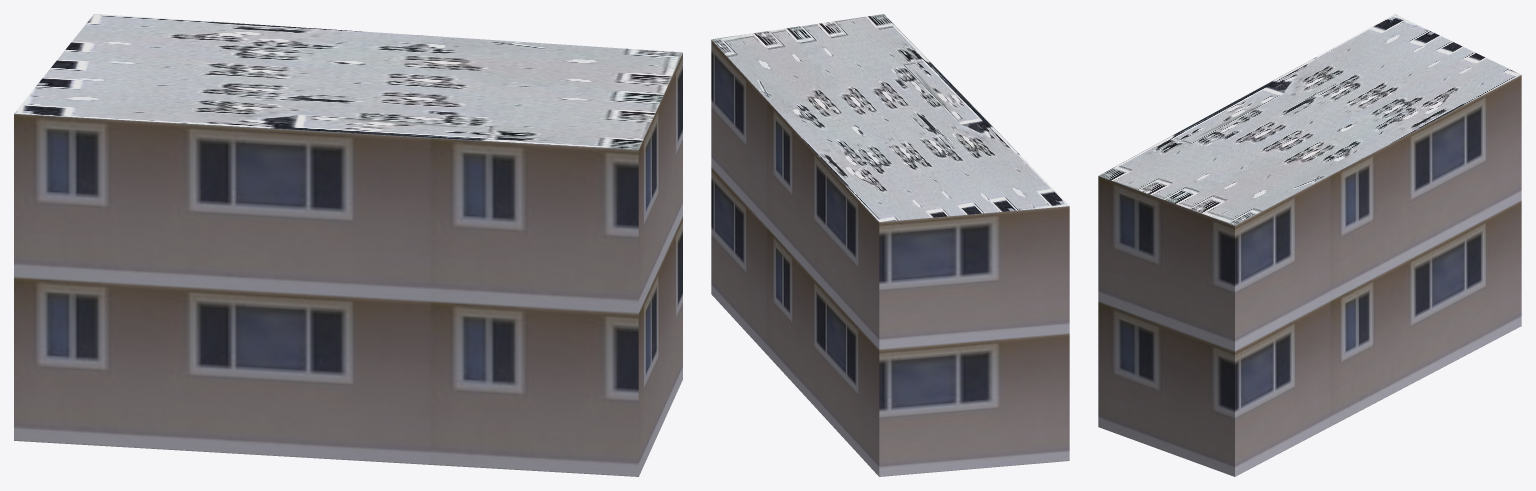
Rendered from ResTex__1340.fbx.
The picture shows the model from 3 angles, left to right: view 1: azimuth 30°, elevation 25°; view 2: azimuth 150°, elevation 25°; view 3: azimuth 270°, elevation 25°; orthographic projection. The views are drawn at different scales.
Parts seen in each view (by area): view 1: CityEngineMaterial_21_m, CityEngineMaterial_8_m; view 2: CityEngineMaterial_21_m, CityEngineMaterial_8_m; view 3: CityEngineMaterial_21_m, CityEngineMaterial_8_m.
Boxes of the visible parts, box(x1,y1,x2,y2) form: CityEngineMaterial_21_m: box(14, 53, 682, 476); CityEngineMaterial_8_m: box(14, 14, 682, 149); CityEngineMaterial_21_m: box(711, 40, 1069, 476); CityEngineMaterial_8_m: box(711, 14, 1069, 221); CityEngineMaterial_21_m: box(1098, 75, 1521, 476); CityEngineMaterial_8_m: box(1098, 14, 1521, 225).
Size of the model in its own units: 10.84 by 6 by 9.16.
2 materials, 2 textured.
